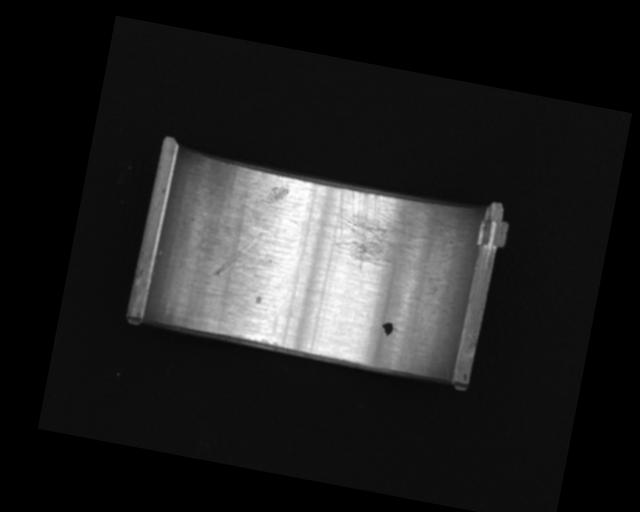blot: (379, 320, 395, 337)
bruise: (263, 182, 290, 207), (254, 294, 263, 306)
nick: (214, 224, 261, 282)
scratch: (326, 186, 454, 285)
